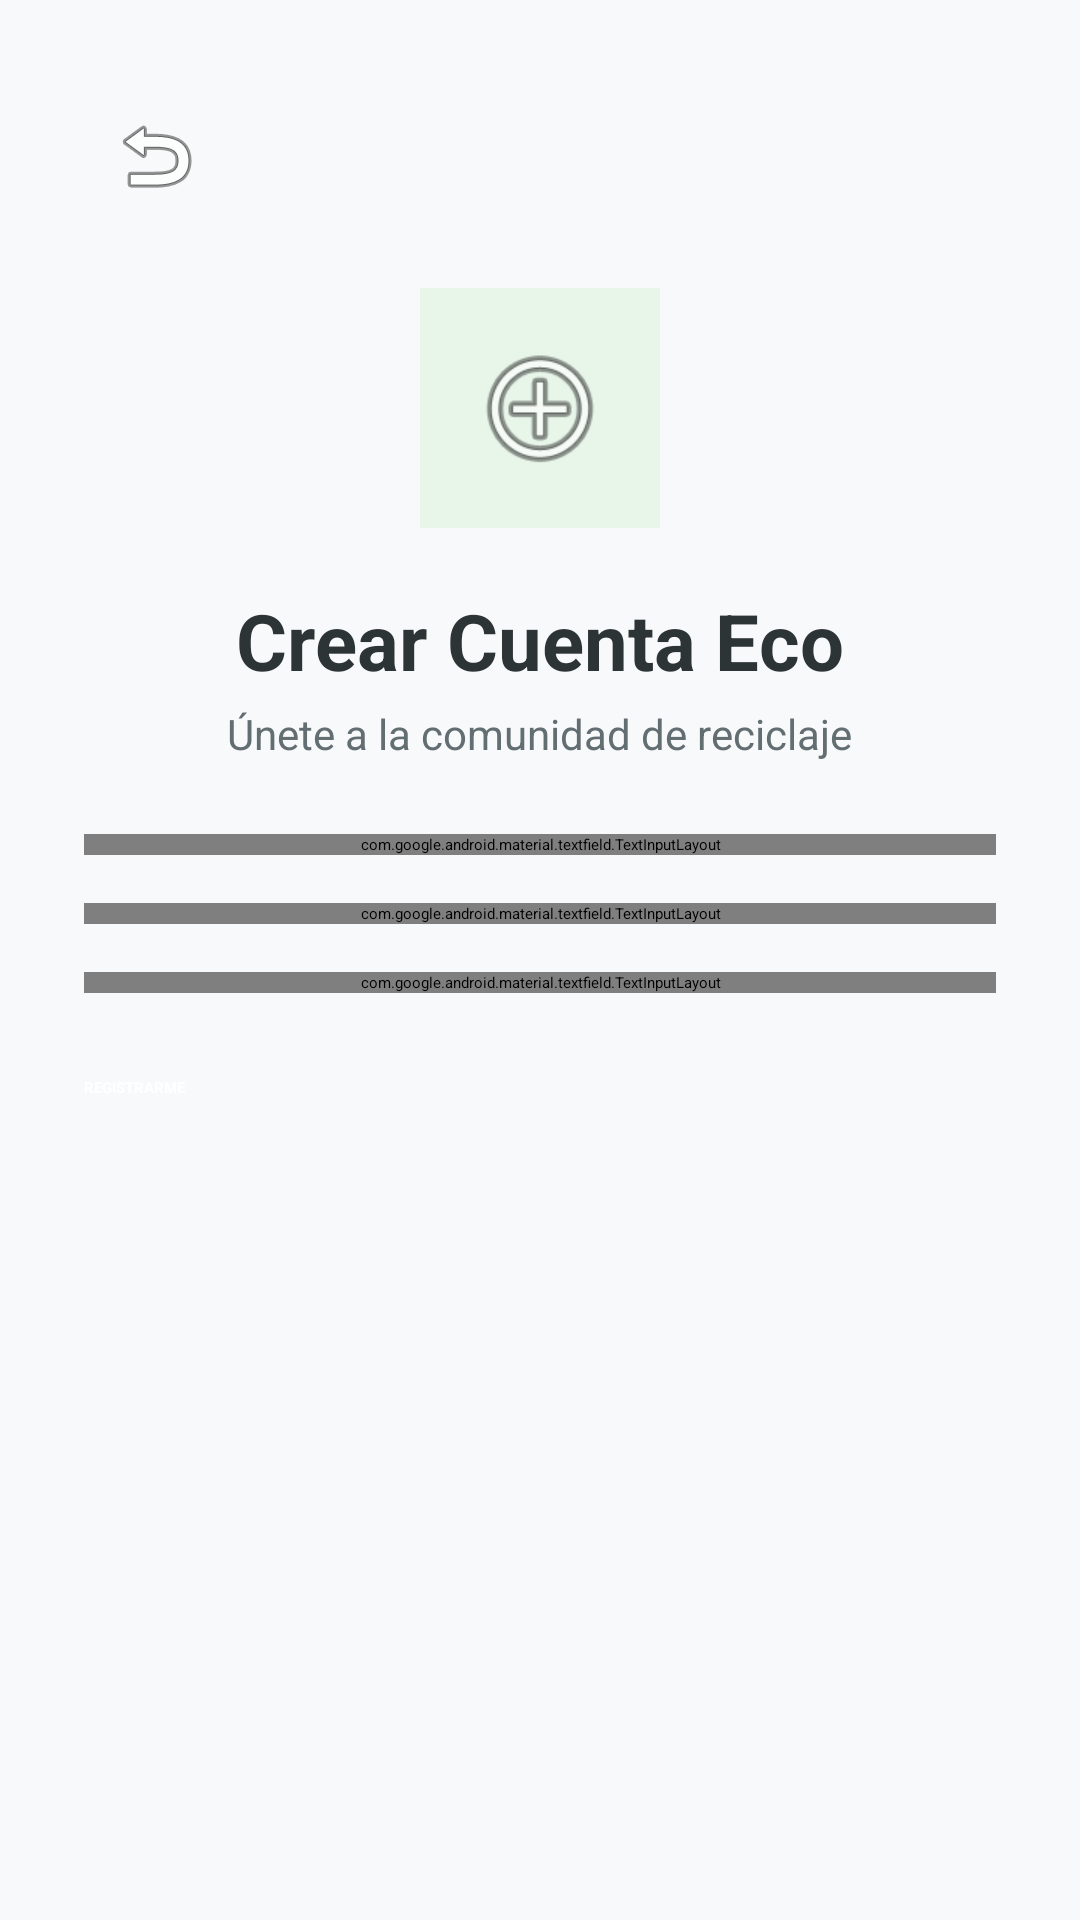

Icon bounding boxes for this 1080x1920 phone screenshot, format box=[x1, y1, x2, y2]:
Atrás: box=[123, 125, 192, 188]
